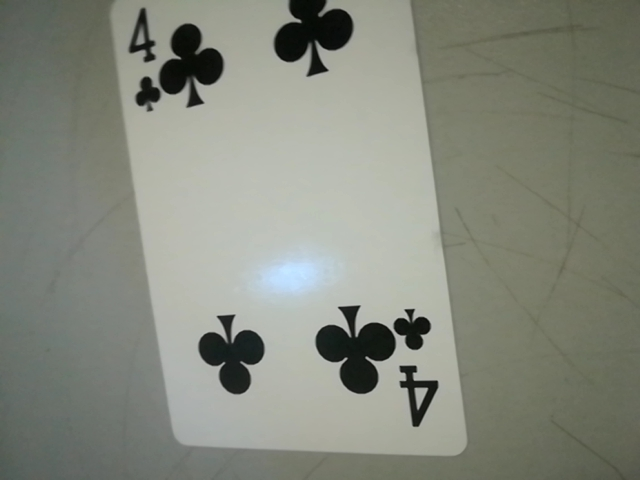mh 4: (389, 296, 453, 440), (118, 9, 179, 117)
